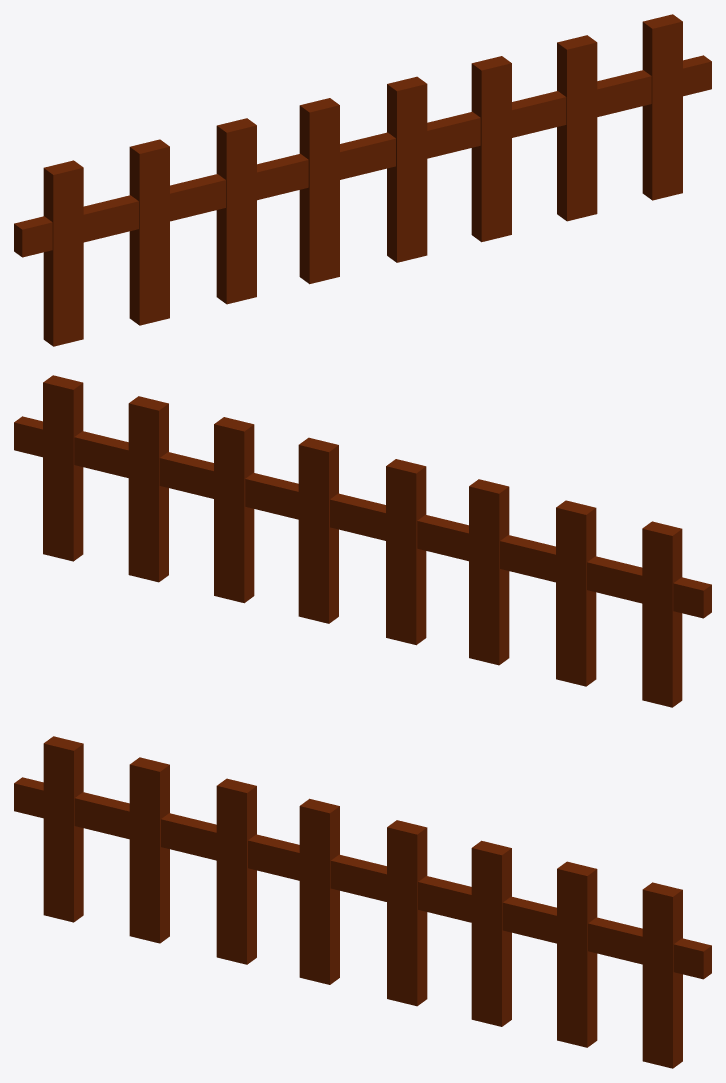
Rendered from fence.FBX.
3 renders of one model, top to bottom at view 1: azimuth 30°, elevation 25°; view 2: azimuth 150°, elevation 25°; view 3: azimuth 330°, elevation 25°, orthographic.
Visible parts, largest first — view 1: Cube.007; view 2: Cube.007; view 3: Cube.007.
Boxes of the visible parts, left/top/right/bottom form: Cube.007: left=14, top=14, right=711, bottom=346; Cube.007: left=14, top=375, right=711, bottom=707; Cube.007: left=14, top=736, right=711, bottom=1068.
Size of the model in its own units: 20.61 by 4.9 by 0.5134.
